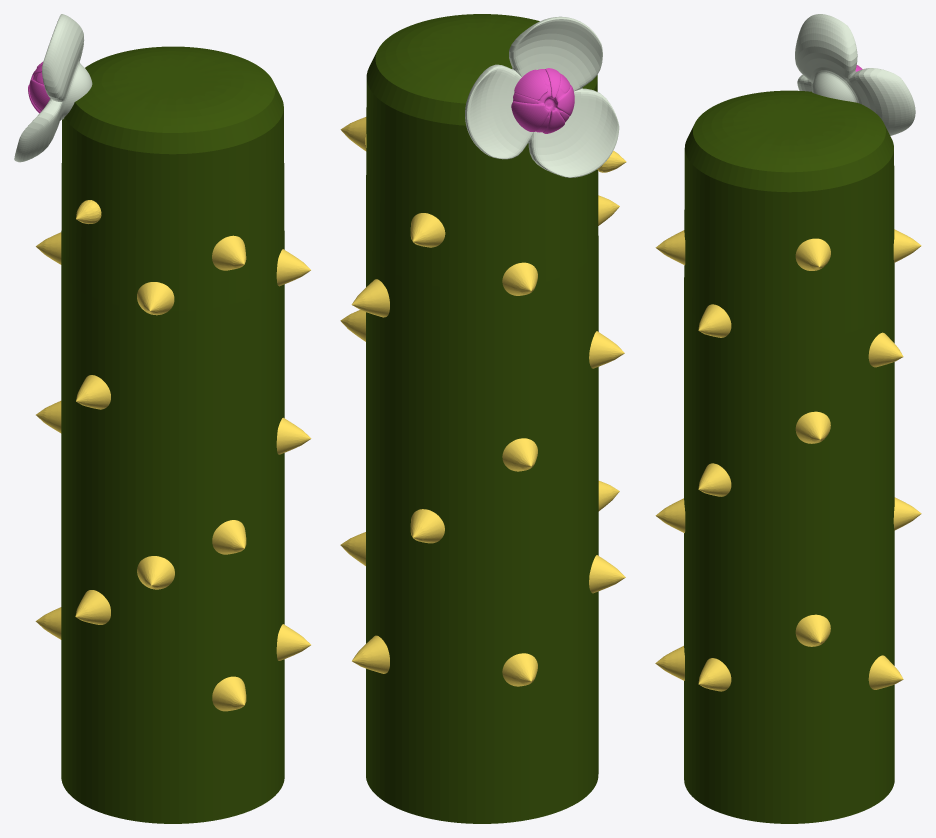
File: cactus.fbx
The picture shows the model from 3 angles, left to right: view 1: azimuth 30°, elevation 25°; view 2: azimuth 150°, elevation 25°; view 3: azimuth 270°, elevation 25°; orthographic projection. The views are drawn at different scales.
Visible parts, largest first — view 1: Cylinder.006, Sphere; view 2: Cylinder.006, Sphere; view 3: Cylinder.006, Sphere.
Part boxes in pixels (bbox=[...]): Cylinder.006: bbox=[35, 46, 311, 823]; Sphere: bbox=[14, 14, 92, 162]; Cylinder.006: bbox=[340, 14, 626, 823]; Sphere: bbox=[465, 16, 619, 177]; Cylinder.006: bbox=[655, 90, 921, 823]; Sphere: bbox=[795, 14, 915, 135].
Bounding box in the file's own units: 267 × 743 × 249.
